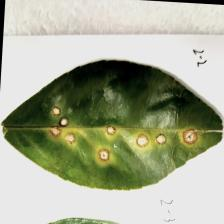canker: (43, 101, 200, 168)
